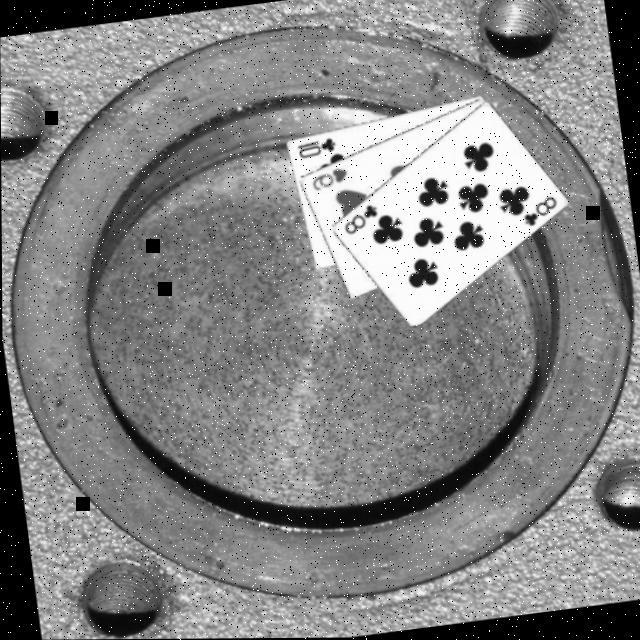10C: (292, 136, 338, 163)
6H: (305, 165, 350, 196)
8C: (336, 202, 380, 240), (517, 194, 561, 232)
